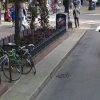Bicycle: (2, 35, 38, 90)
